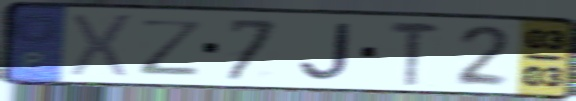2: (455, 23, 512, 88)
7: (225, 18, 281, 82)
J: (295, 21, 355, 83)
T: (387, 19, 444, 88)
X: (67, 11, 137, 81)
Z: (137, 17, 209, 78)
